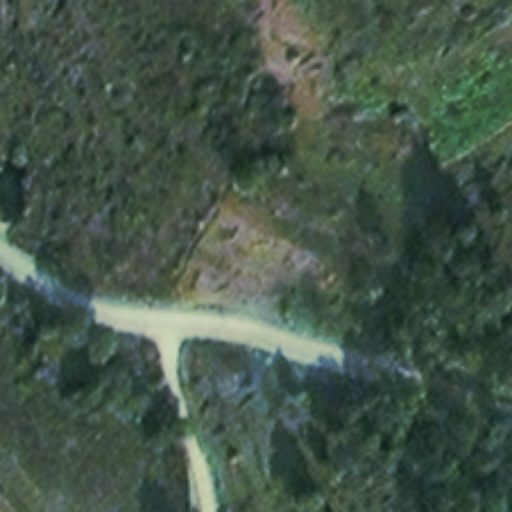landslide: (179, 193, 320, 312), (254, 3, 331, 120)
